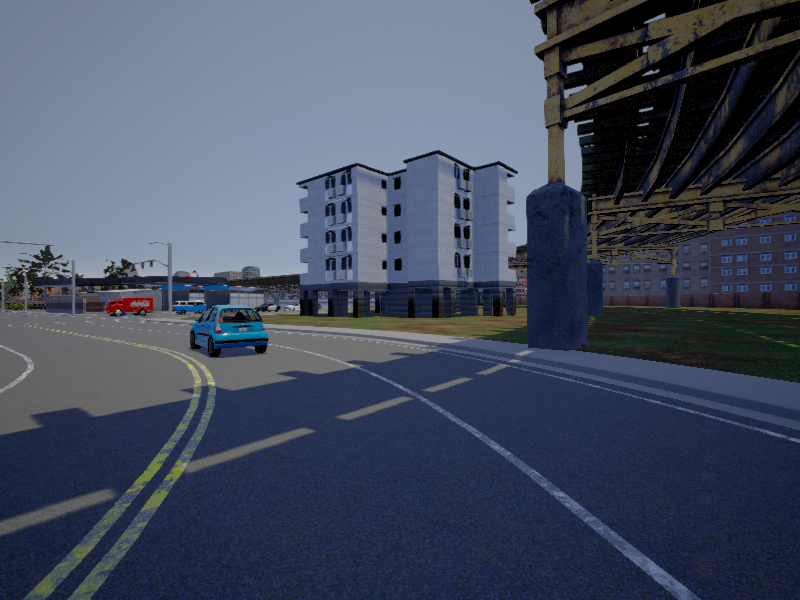Benign: (189, 303, 270, 357), (107, 297, 155, 318), (174, 301, 207, 315)
